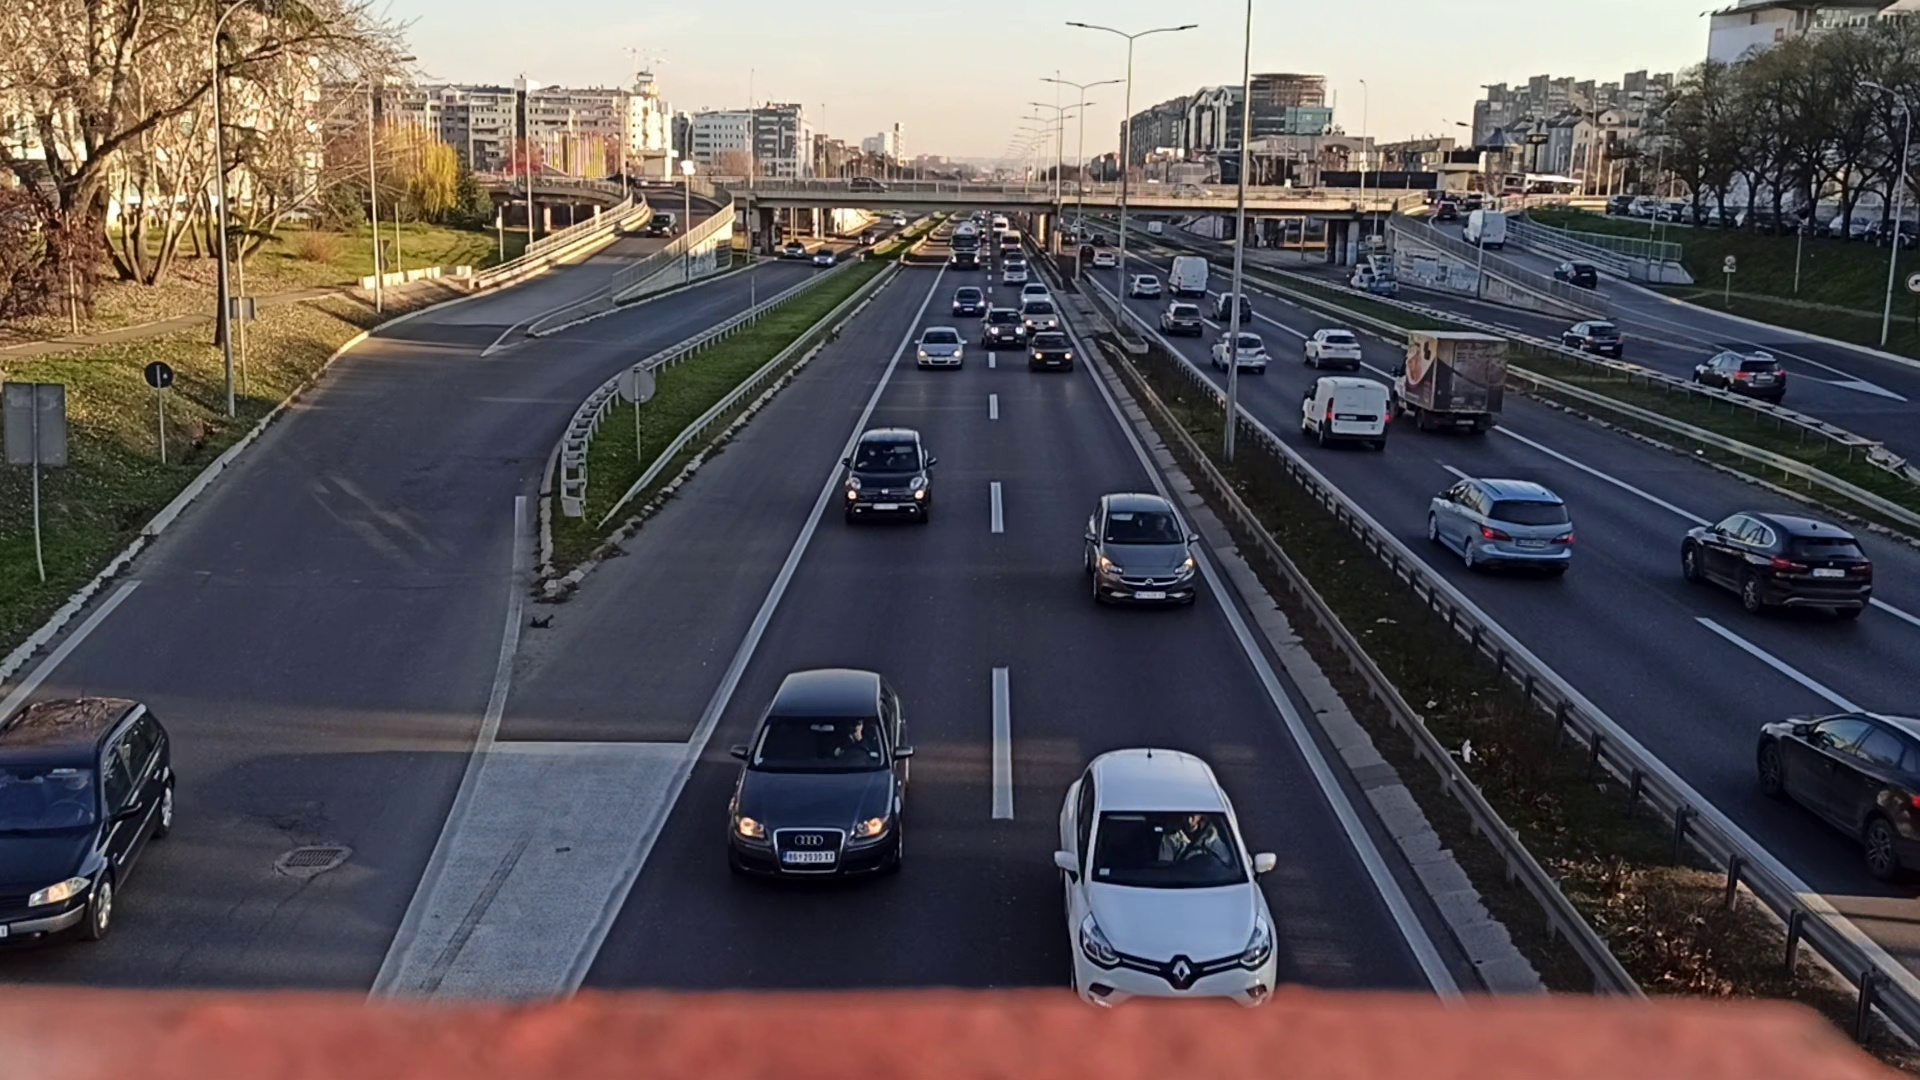car: (1056, 746, 1279, 1002), (724, 666, 907, 894), (1760, 709, 1920, 878), (1680, 514, 1873, 620), (1427, 473, 1571, 578), (1083, 492, 1195, 609), (843, 429, 934, 526), (1693, 345, 1783, 400), (913, 326, 964, 372), (1304, 327, 1362, 367), (1561, 319, 1621, 357), (1212, 331, 1267, 371), (980, 309, 1021, 349), (1030, 334, 1072, 371), (1025, 301, 1056, 330), (952, 287, 982, 314)
truck: (1391, 330, 1499, 431), (949, 222, 978, 266)
van: (1302, 378, 1389, 447), (1462, 208, 1505, 247), (1168, 255, 1205, 297)
